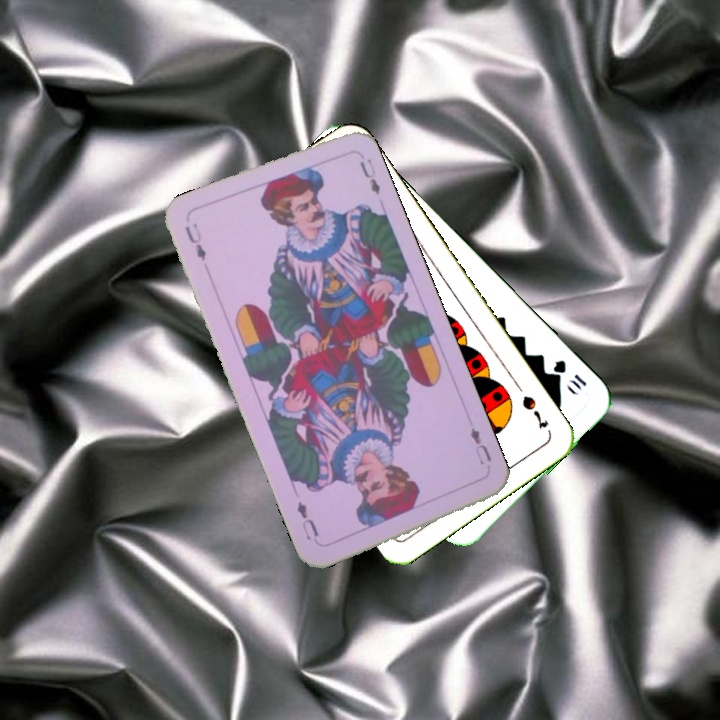EU: (181, 219, 209, 264), (466, 424, 494, 468)
G10: (548, 356, 590, 392)
S7: (518, 391, 551, 432)
